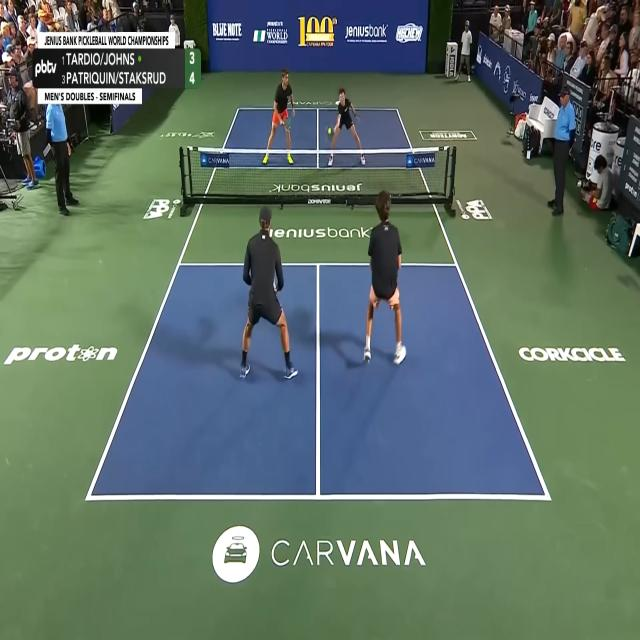ball: (328, 127, 331, 135)
